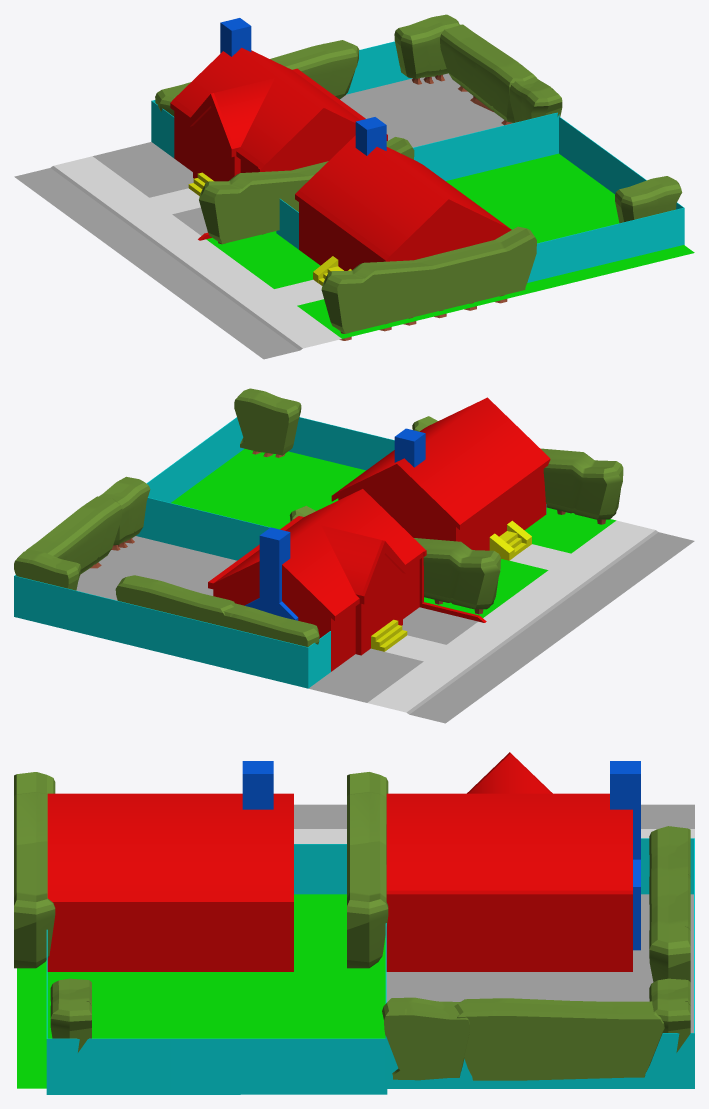
Rendered from block in.fbx.
3 renders of one model, top to bottom at view 1: azimuth 30°, elevation 25°; view 2: azimuth 150°, elevation 25°; view 3: azimuth 270°, elevation 25°, orthographic. The views are drawn at different scales.
Parts seen in each view (by area): view 1: polySurface12, polySurface3, polySurface11, pCube1, polySurface13, polySurface4, pasted__polySurface20, pasted__polySurface21, pasted__polySurface14, pCube7, polySurface31, polySurface30 (+6 smaller); view 2: polySurface12, polySurface3, polySurface11, polySurface4, pCube1, polySurface13, pCube7, pasted__polySurface20, pasted__polySurface14, polySurface31, polySurface33, polySurface21 (+5 smaller); view 3: pCube1, polySurface11, polySurface12, polySurface13, polySurface31, polySurface3, polySurface4, polySurface32, pasted__polySurface19, pasted__polySurface21, polySurface29, pasted__polySurface14 (+7 smaller).
Part boxes in pixels (box(x1,y1,x2,y2)): polySurface12: box(139, 161, 694, 359); polySurface3: box(14, 73, 569, 267); polySurface11: box(295, 135, 511, 270); pCube1: box(170, 47, 387, 240); polySurface13: box(276, 116, 684, 282); polySurface4: box(151, 41, 559, 180); pasted__polySurface20: box(321, 260, 436, 333); pasted__polySurface21: box(409, 226, 536, 317); pasted__polySurface14: box(199, 170, 310, 243); pCube7: box(190, 78, 274, 181); polySurface31: box(440, 24, 536, 125); polySurface30: box(394, 14, 459, 84); polySurface12: box(171, 449, 694, 631); polySurface3: box(76, 536, 569, 723); polySurface11: box(331, 397, 550, 550); polySurface4: box(14, 497, 330, 688); pCube1: box(208, 489, 486, 671); polySurface13: box(146, 417, 546, 513); pCube7: box(321, 525, 405, 655); pasted__polySurface20: box(541, 448, 623, 519); pasted__polySurface14: box(414, 538, 500, 609); polySurface31: box(26, 496, 122, 575); polySurface33: box(234, 388, 301, 457); polySurface21: box(159, 602, 319, 646); pCube1: box(386, 793, 632, 971); polySurface11: box(47, 793, 293, 971); polySurface12: box(17, 804, 355, 1088); polySurface13: box(46, 844, 387, 1094); polySurface31: box(454, 998, 664, 1080); polySurface3: box(356, 804, 694, 1038); polySurface4: box(385, 838, 694, 1088); polySurface32: box(382, 997, 469, 1080); pasted__polySurface19: box(347, 841, 388, 968); pasted__polySurface21: box(14, 841, 55, 968); polySurface29: box(649, 875, 690, 982); pasted__polySurface14: box(347, 772, 388, 848).
Size of what is drawn, in the model's own units: 22.24 by 6.2 by 22.12.
